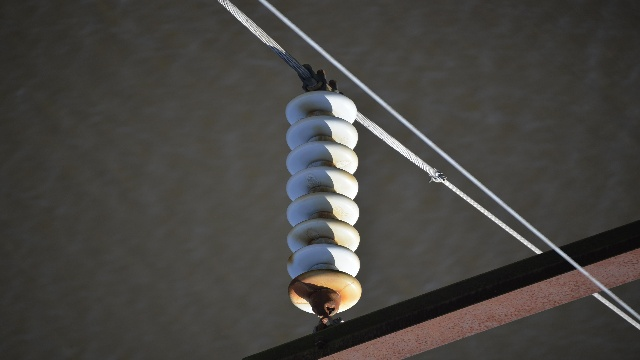insulator_unspecified: (284, 90, 363, 314)
pollution_flashover_local: (308, 175, 320, 190), (336, 160, 353, 169), (307, 229, 320, 240)
